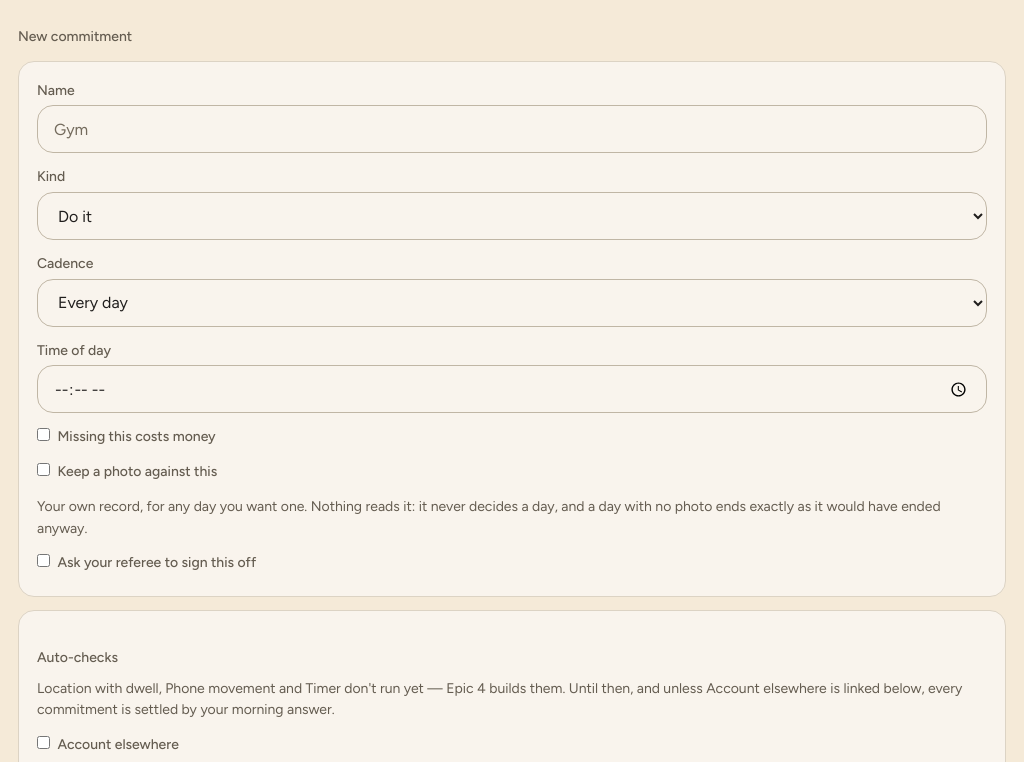
the commitment form › asks only for the targets the cadence actually needs
The width and height of the screenshot is (1024, 762).
Expected: the field labelled "Times a week" is not shown
Select "Times a week" in the dropdown labelled "Cadence" at (512, 303), box [37, 279, 987, 327]
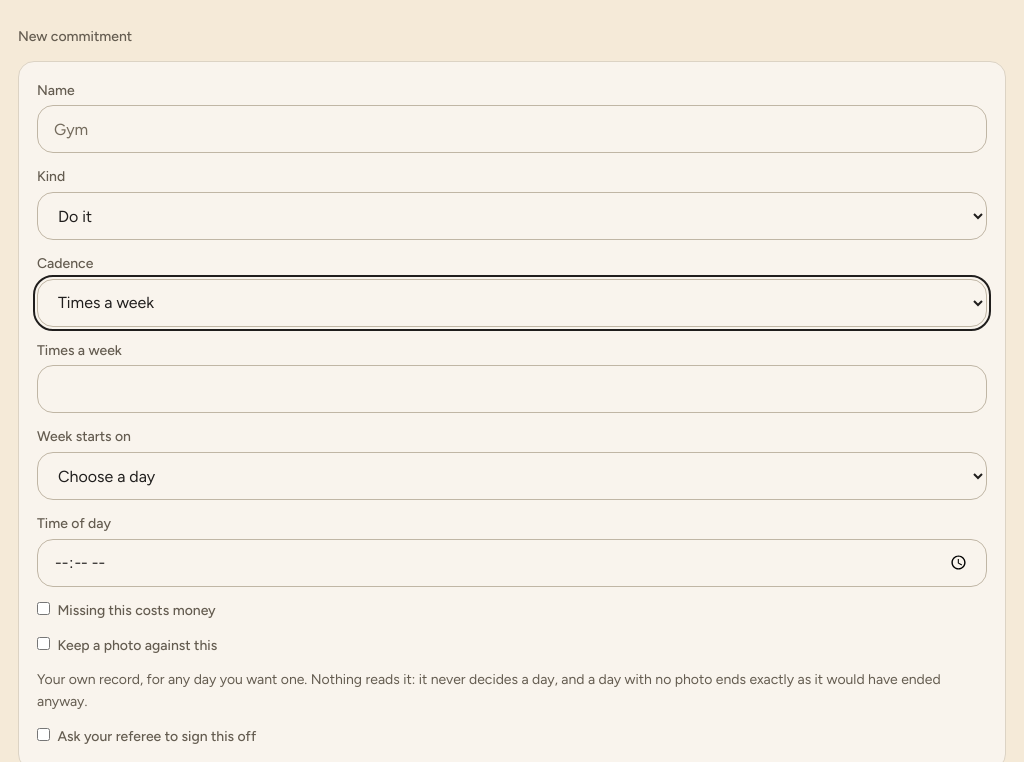
Expected: the number field labelled "Times a week" is shown, [37, 365, 987, 413]
Expected: the dropdown labelled "Week starts on" is shown, [37, 452, 987, 500]
